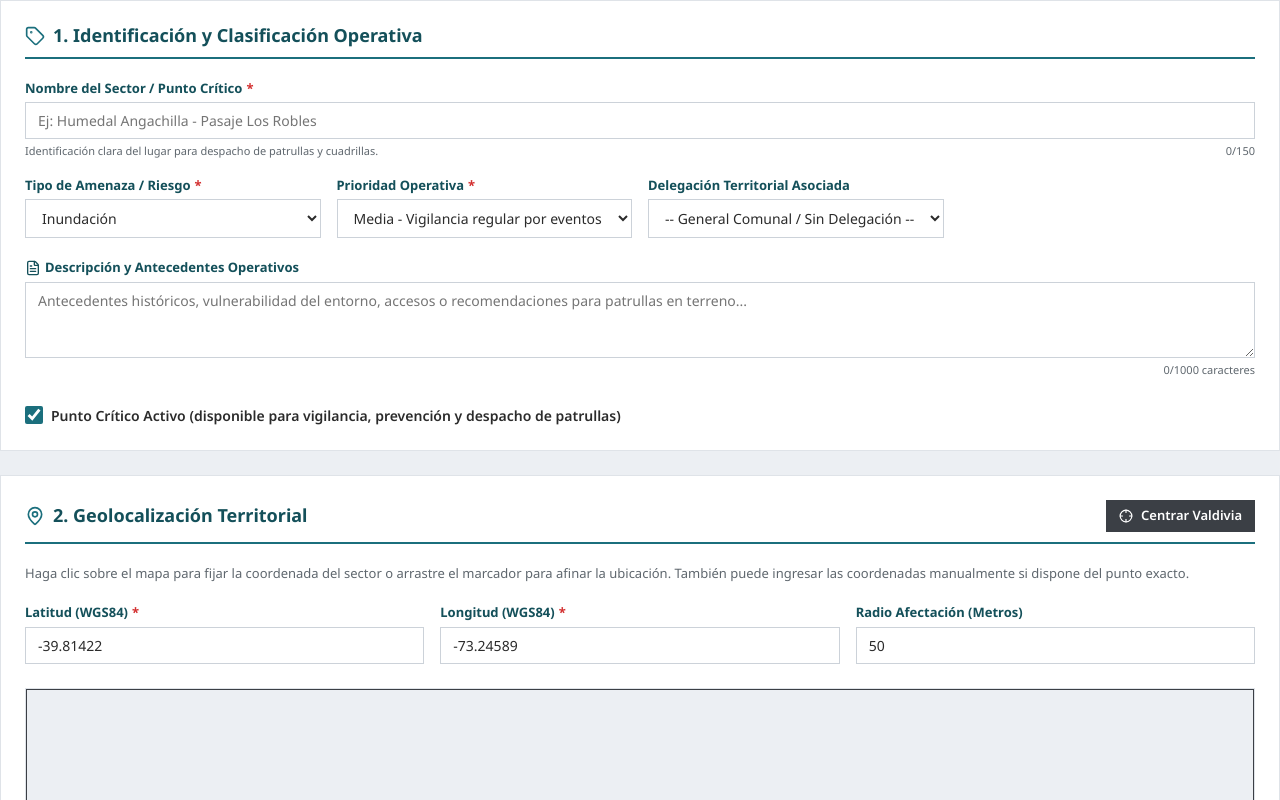
PuntoCriticoForm (HU-58: Creación de Puntos Críticos) › debe enviar la petición de creación exitosamente y mostrar pantalla de confirmación
In the field labelled "Nombre del Sector / Punto Crítico *": (640, 121) [25,102,1255,139], type "Socavón Ribera Calle General Lagos"
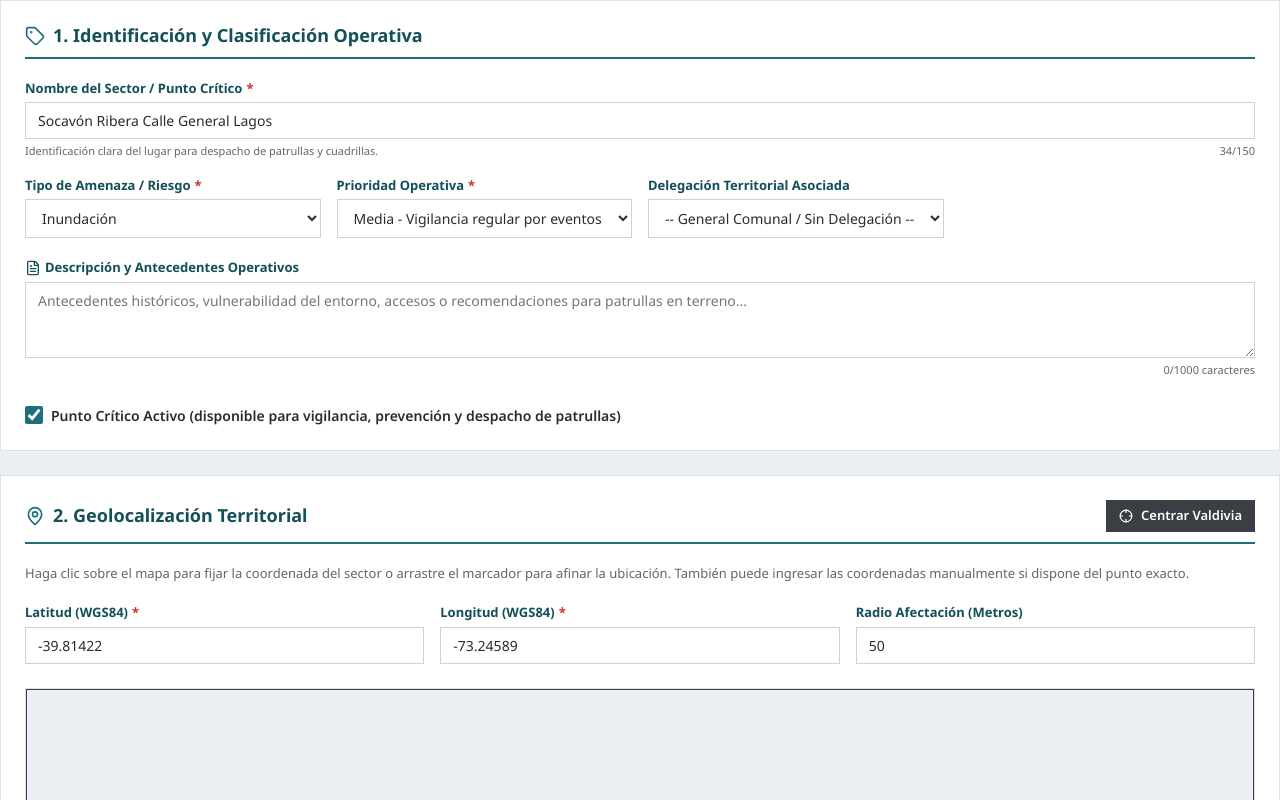
Select "Remoción en Masa / Deslizamiento" in the dropdown labelled "Tipo de Amenaza / Riesgo *": (173, 219) [25,199,320,238]
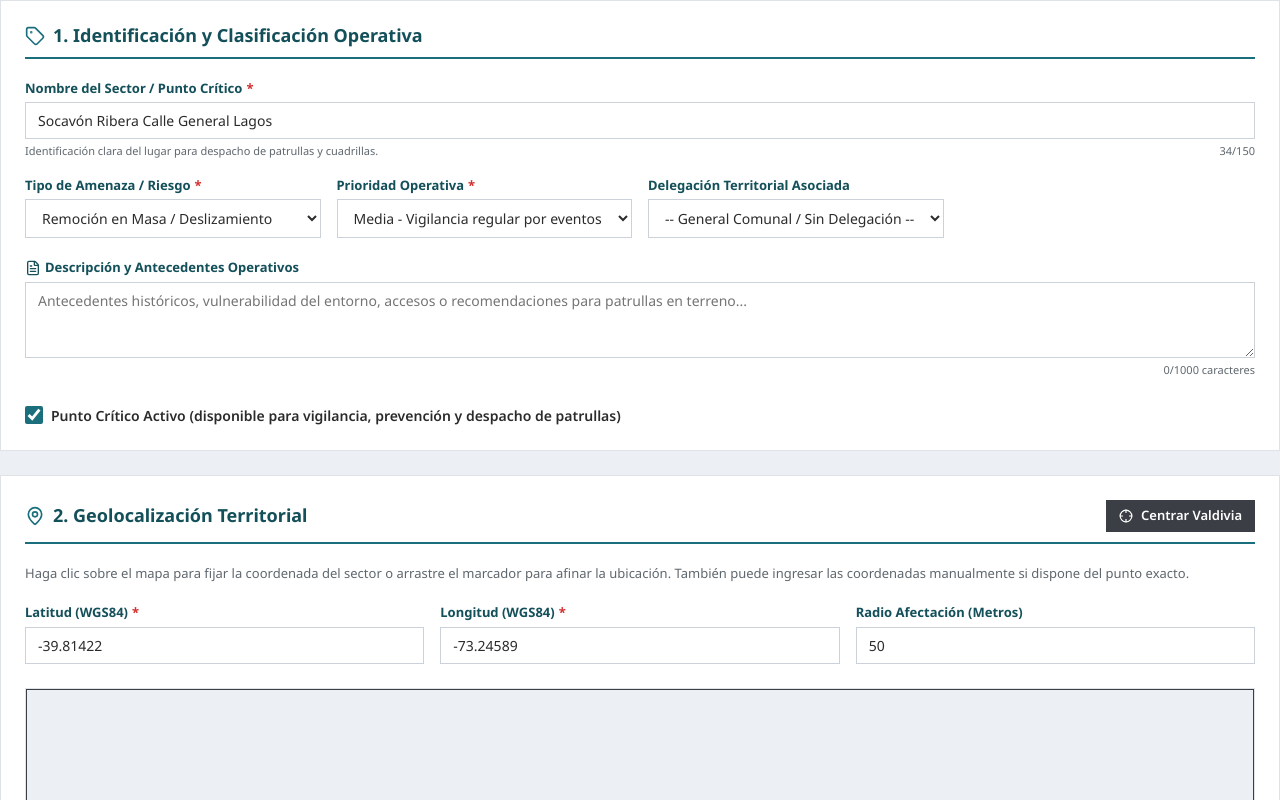
Select "Alta - Riesgo significativo de anegamiento/corte" in the dropdown labelled "Prioridad Operativa *": (484, 219) [336,199,632,238]
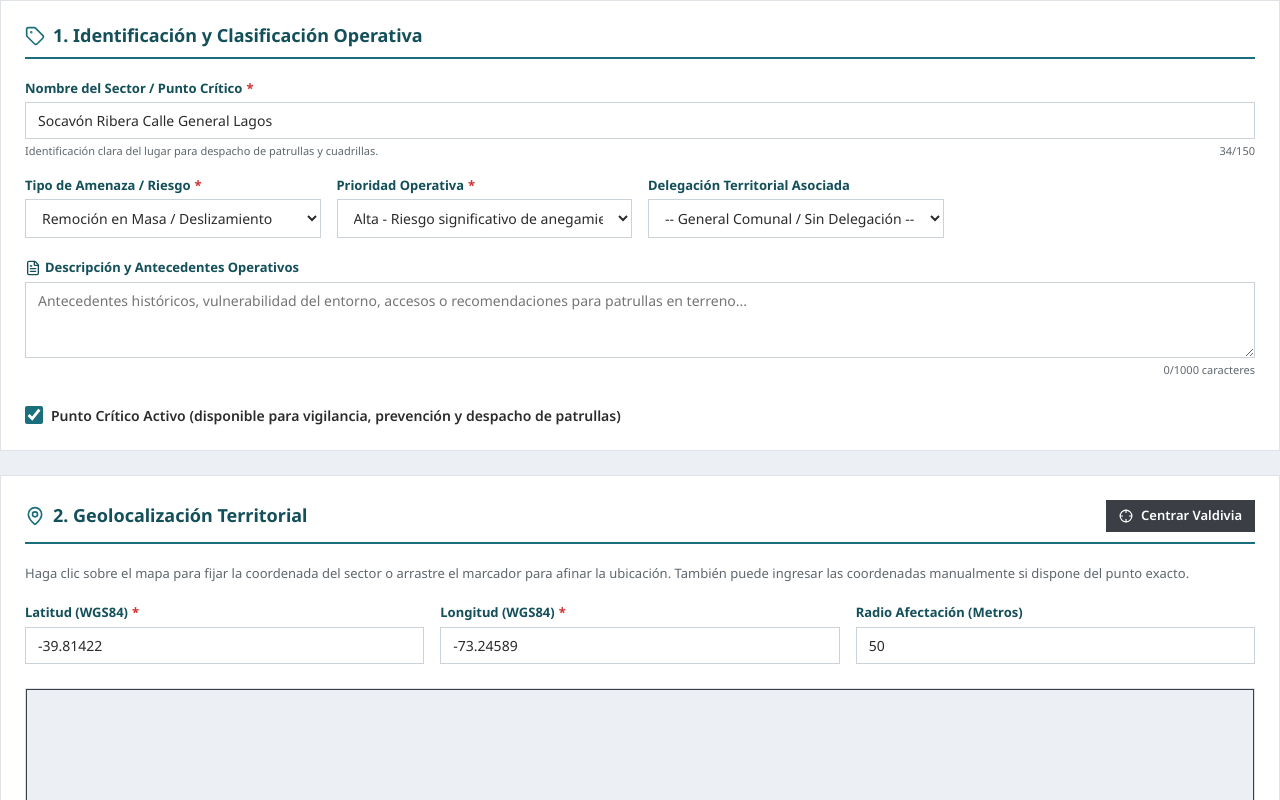
Select "Delegación Municipal Sur" in the dropdown labelled "Delegación Territorial Asociada": (796, 219) [648,199,944,238]
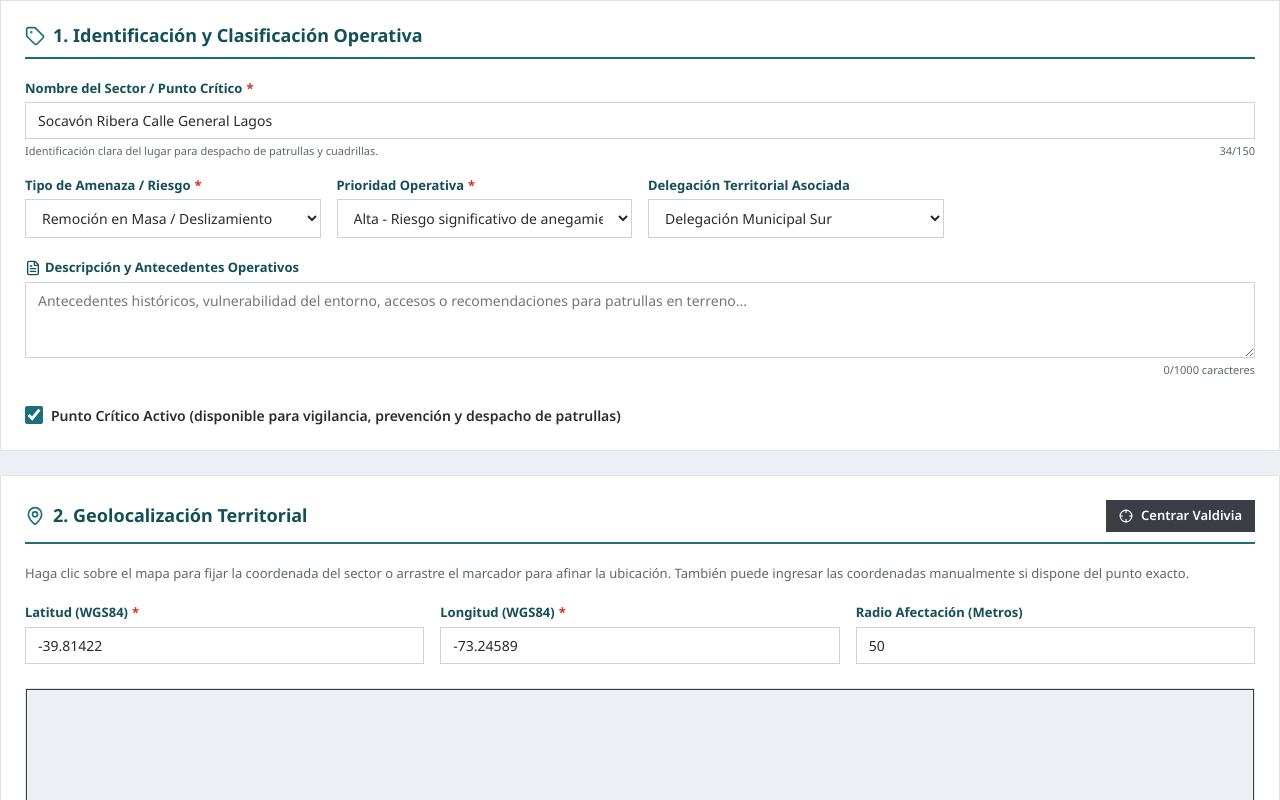
Replace the text in the number field labelled "Radio Afectación (Metros)" with "120": (1055, 645) [856,627,1255,664]
(page scrolled)
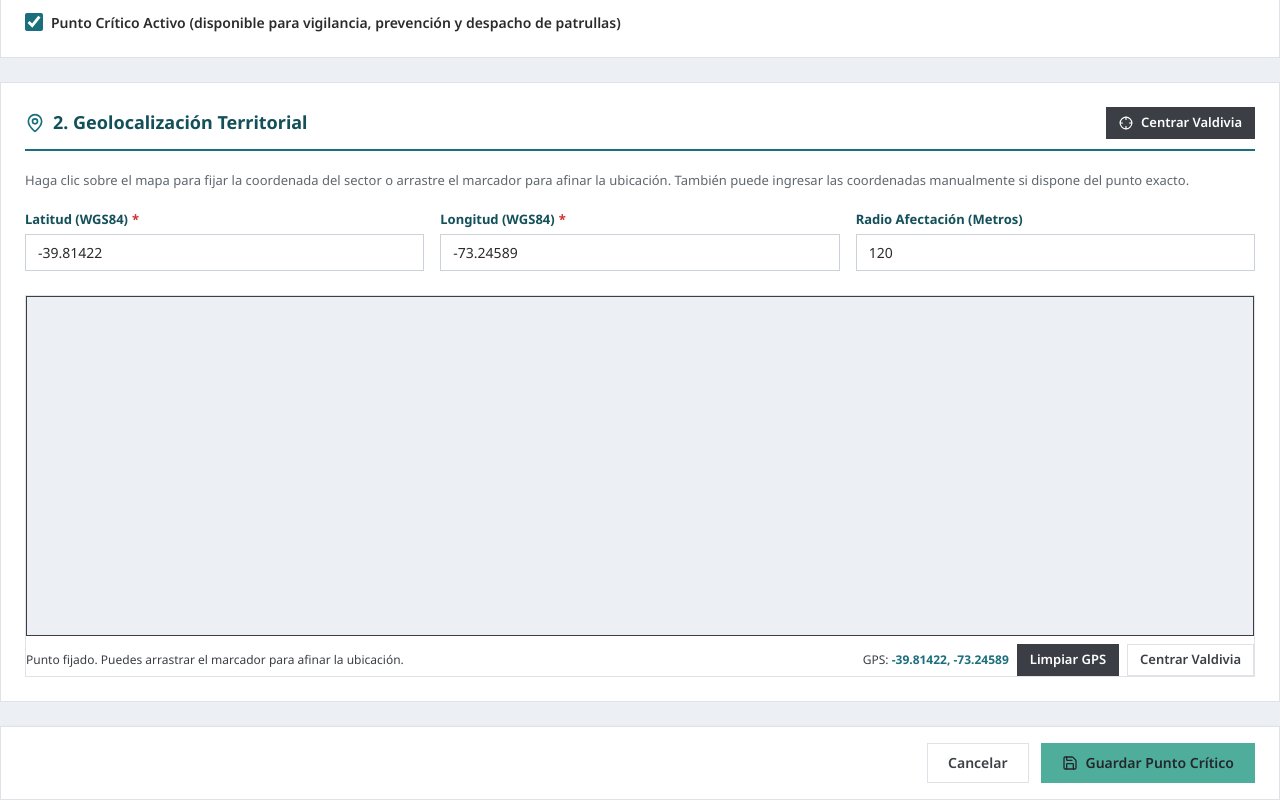
Click the button "Guardar Punto Crítico": click(1148, 763) [1040,743,1255,783]
(page scrolled)
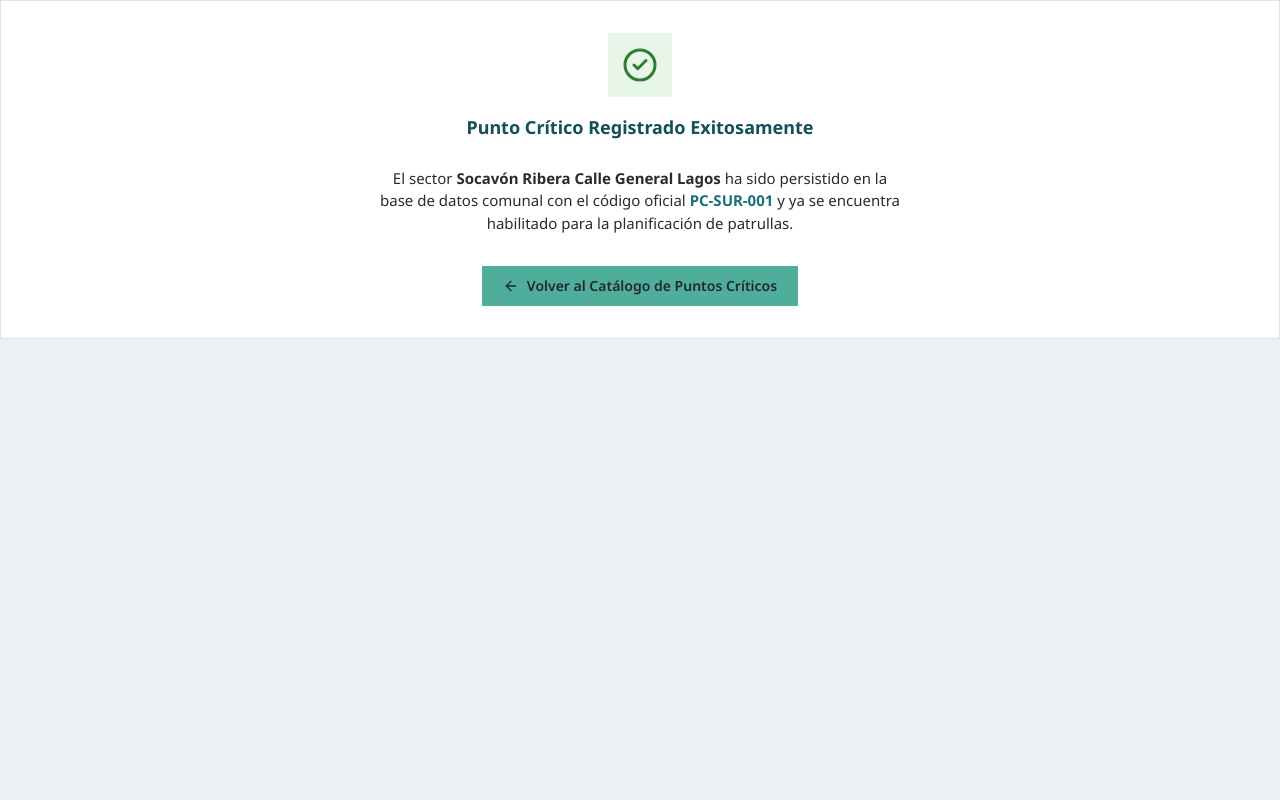
Check: the heading "Punto Crítico Registrado Exitosamente" is shown, box [466,117,814,139]
Check: the text "PC-SUR-001" is shown, box [690,190,773,210]
